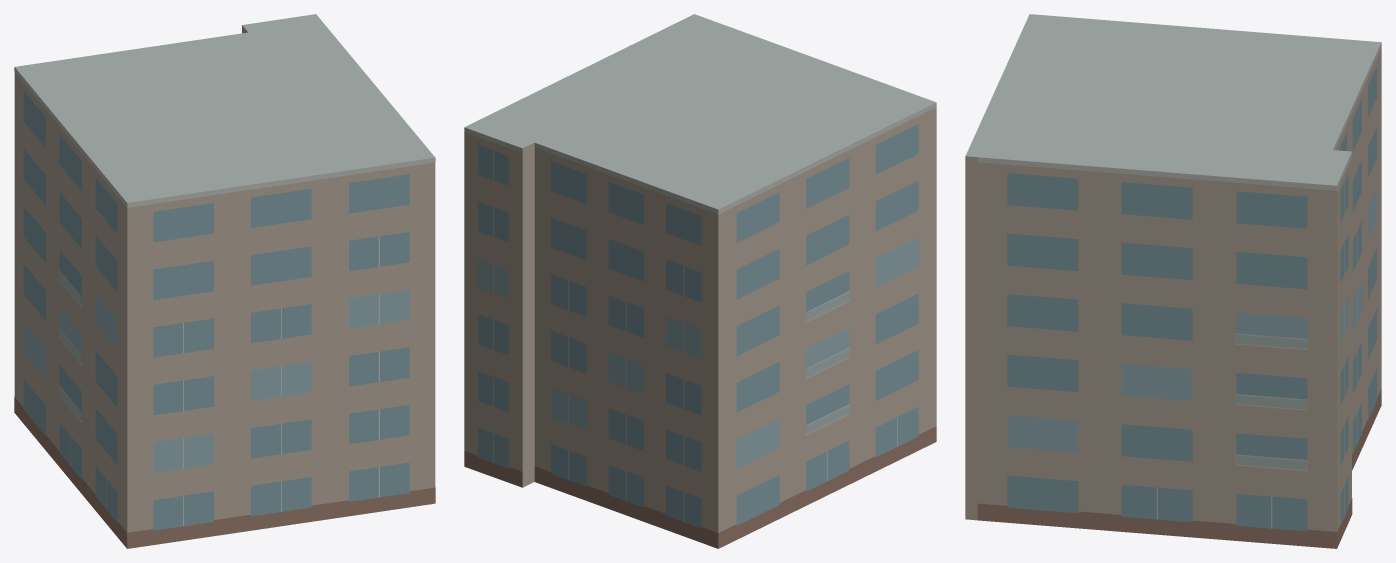
Rendered from survey-upis-32707760.glb.
The picture shows the model from 3 angles, left to right: view 1: azimuth 30°, elevation 25°; view 2: azimuth 150°, elevation 25°; view 3: azimuth 270°, elevation 25°; orthographic projection. The views are drawn at different scales.
Visible parts, largest first — view 1: survey-upis-32707760.tmp; view 2: survey-upis-32707760.tmp; view 3: survey-upis-32707760.tmp.
Part boxes in pixels (box(x1,y1,x2,y2)): survey-upis-32707760.tmp: box(14, 14, 435, 548); survey-upis-32707760.tmp: box(464, 14, 936, 548); survey-upis-32707760.tmp: box(965, 14, 1381, 548).
Bounding box in the file's own units: 17.56 × 17.3 × 17.98.
